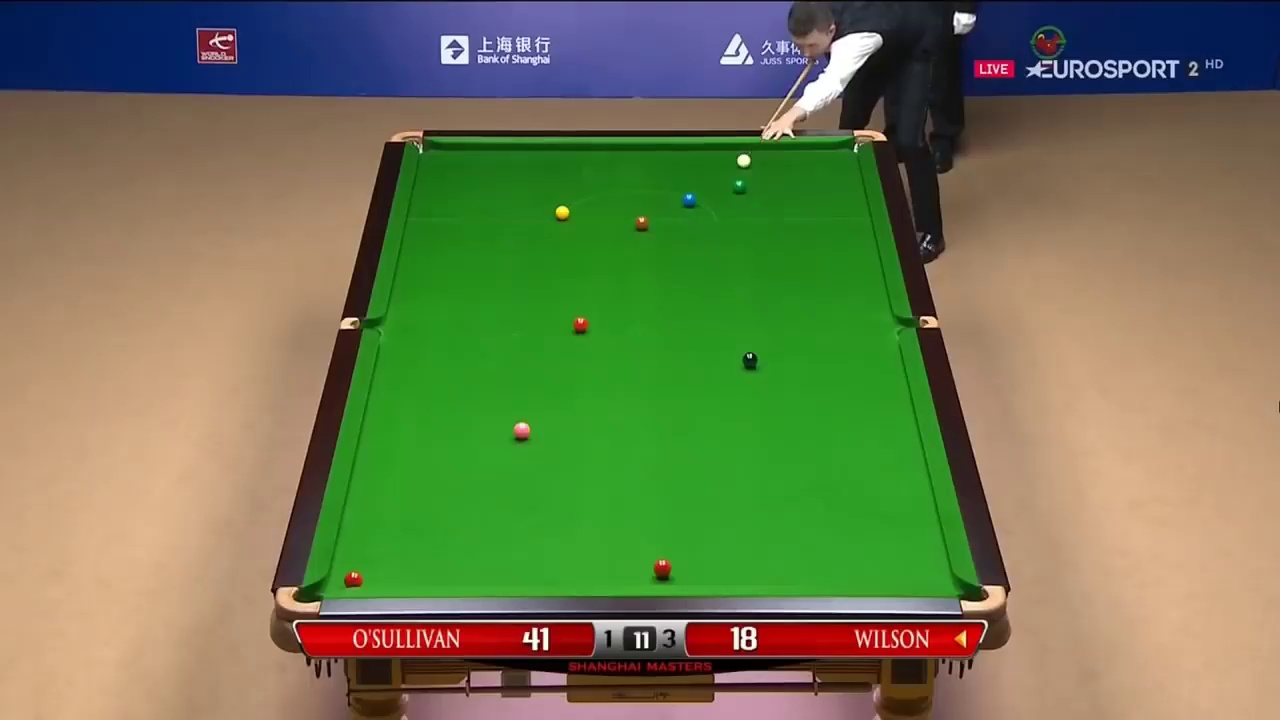ball: (653, 557, 672, 578), (729, 174, 747, 192), (733, 149, 751, 167), (513, 421, 530, 439), (553, 203, 569, 222), (679, 189, 697, 205), (572, 316, 590, 332), (634, 211, 649, 228), (742, 348, 756, 365)
